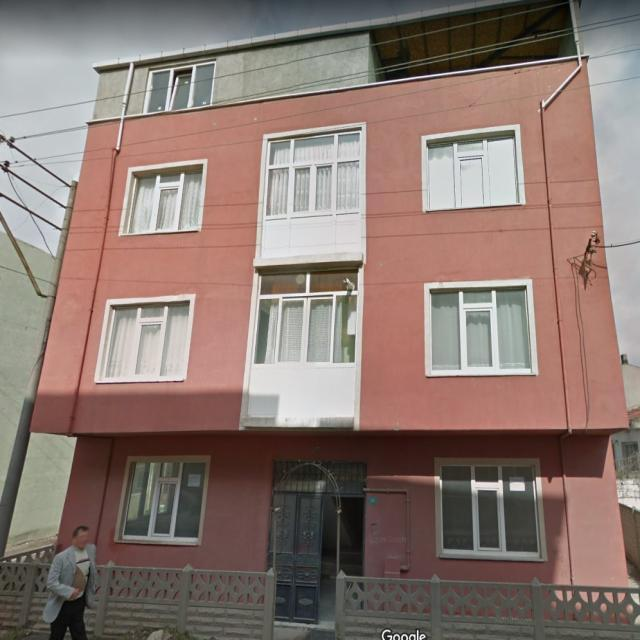Building: (28, 0, 630, 623)
